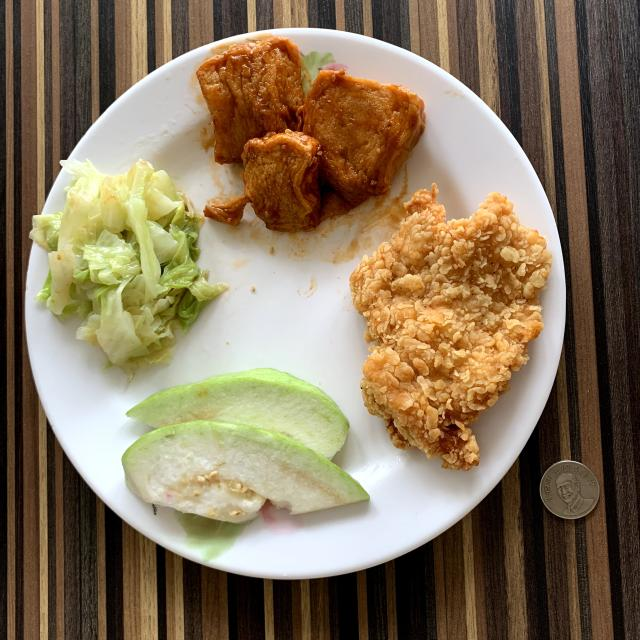cabbage: (30, 160, 226, 375)
coin: (540, 461, 600, 520)
creamy tofu: (198, 36, 425, 232)
fried chicken cutlet: (350, 185, 551, 470)
guava -sliced-: (122, 369, 369, 522)
